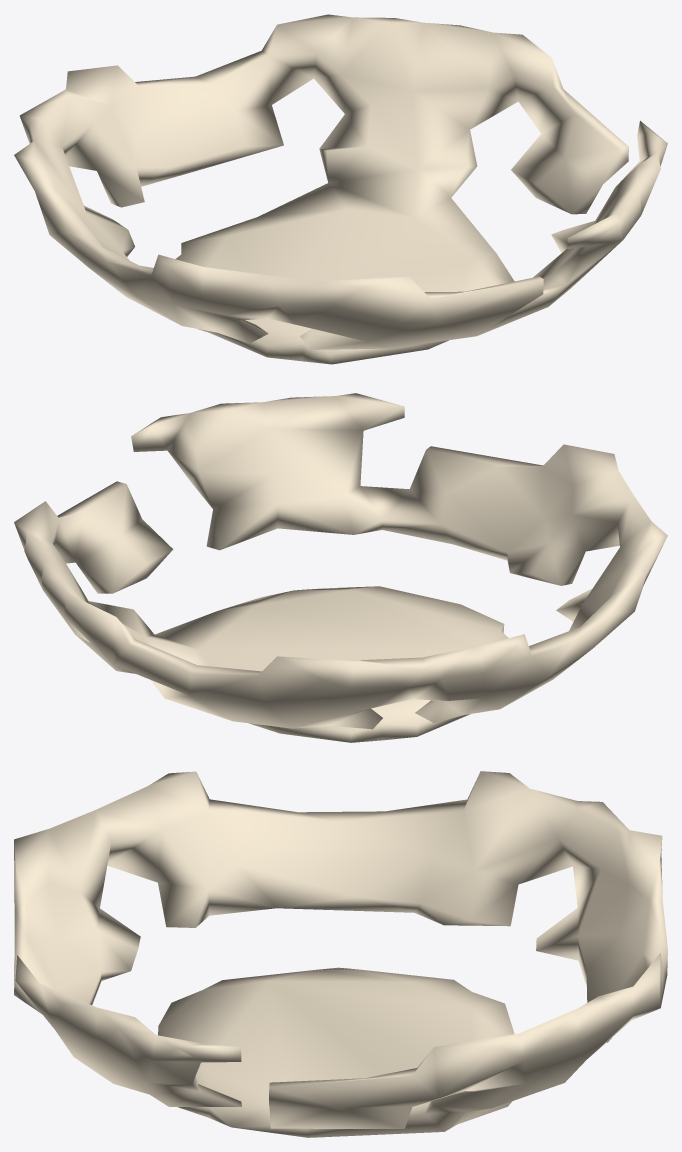
3 renders of one model, top to bottom at view 1: azimuth 30°, elevation 25°; view 2: azimuth 150°, elevation 25°; view 3: azimuth 270°, elevation 25°, orthographic. The views are drawn at different scales.
Parts seen in each view (by area): view 1: 얕은 도자기 그릇; view 2: 얕은 도자기 그릇; view 3: 얕은 도자기 그릇.
Boxes of the visible parts, box(x1,y1,x2,y2) form: 얕은 도자기 그릇: box(14, 14, 667, 364); 얕은 도자기 그릇: box(14, 393, 667, 742); 얕은 도자기 그릇: box(14, 771, 667, 1137).
Bounding box in the file's own units: 28.37 × 8.03 × 28.4.
